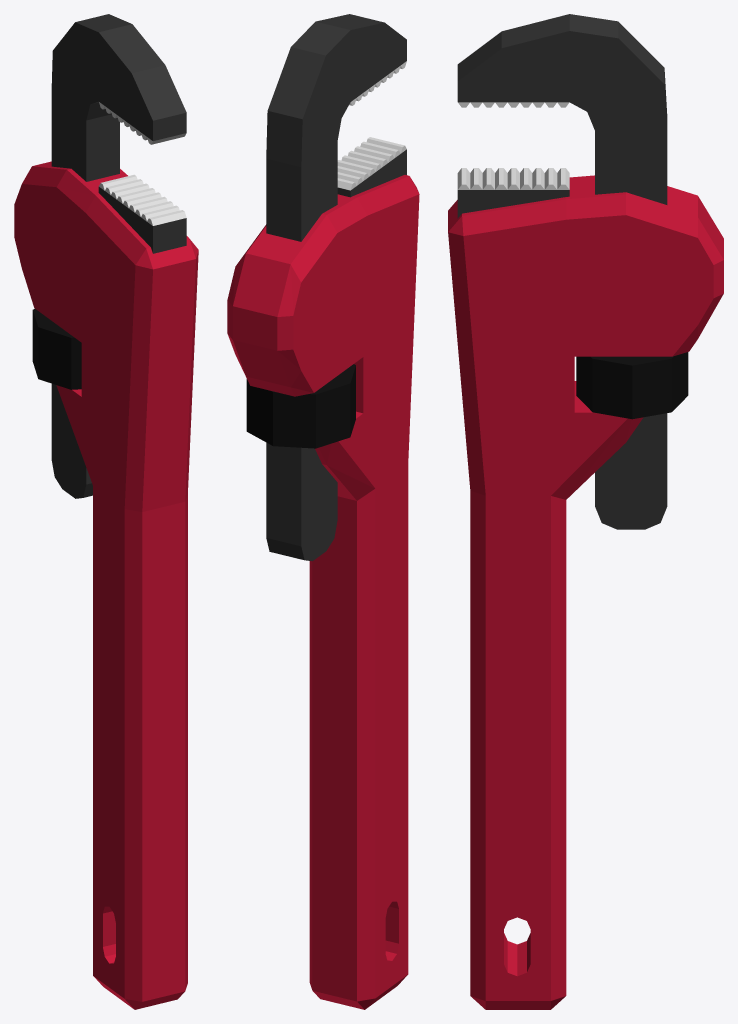
The model's file is Wrench.obj.
3 renders of one model, left to right at view 1: azimuth 30°, elevation 25°; view 2: azimuth 150°, elevation 25°; view 3: azimuth 270°, elevation 25°, orthographic. The views are drawn at different scales.
Visible parts, largest first — view 1: Wrench_Cube; view 2: Wrench_Cube; view 3: Wrench_Cube.
Part boxes in pixels (left/top/right/bottom): Wrench_Cube: left=14, top=14, right=198, bottom=1009; Wrench_Cube: left=227, top=14, right=419, bottom=1009; Wrench_Cube: left=448, top=14, right=723, bottom=1009.
Size of the model in its own units: 0.0363 by 0.3493 by 0.0894.
